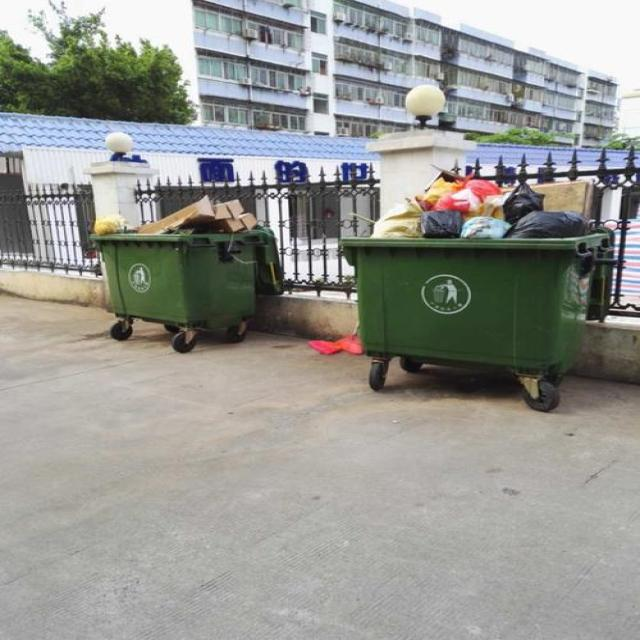garbage: (306, 320, 362, 356)
overflow: (341, 164, 613, 369), (87, 193, 285, 327)
